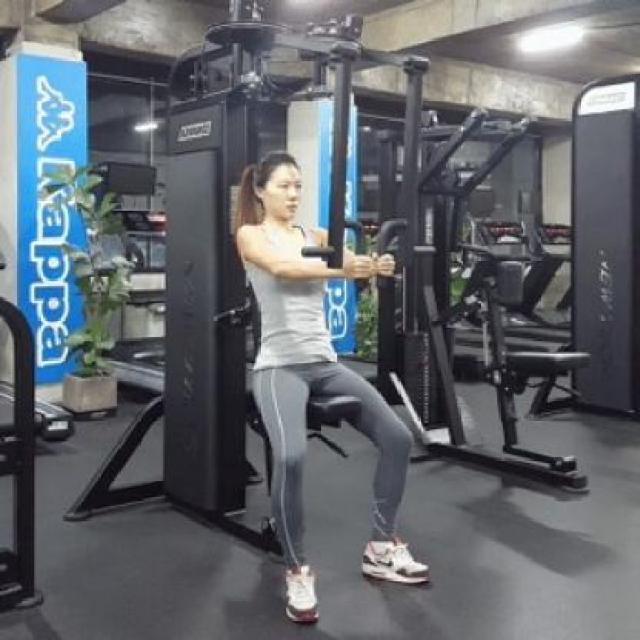chest fly machine: (35, 0, 463, 640)
